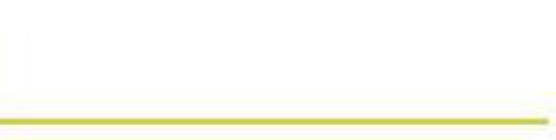EditText: (1, 1, 555, 139)
